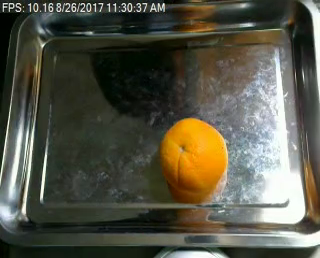Orange: (159, 116, 228, 194)
